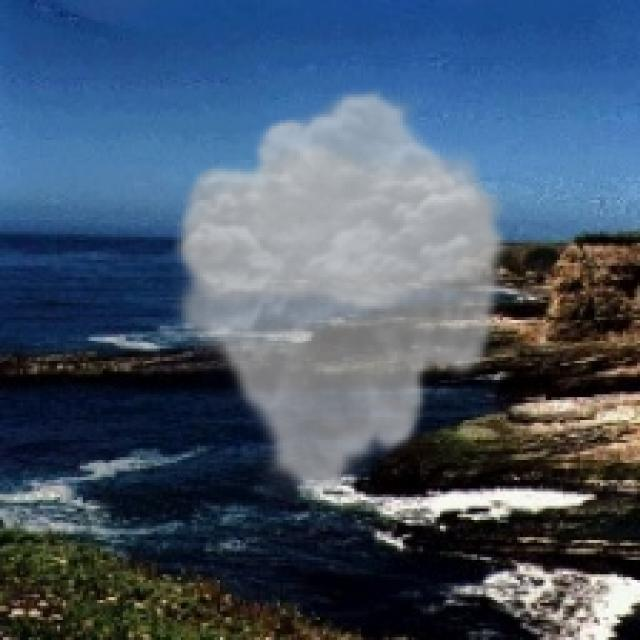Smoke: (166, 86, 514, 503)
